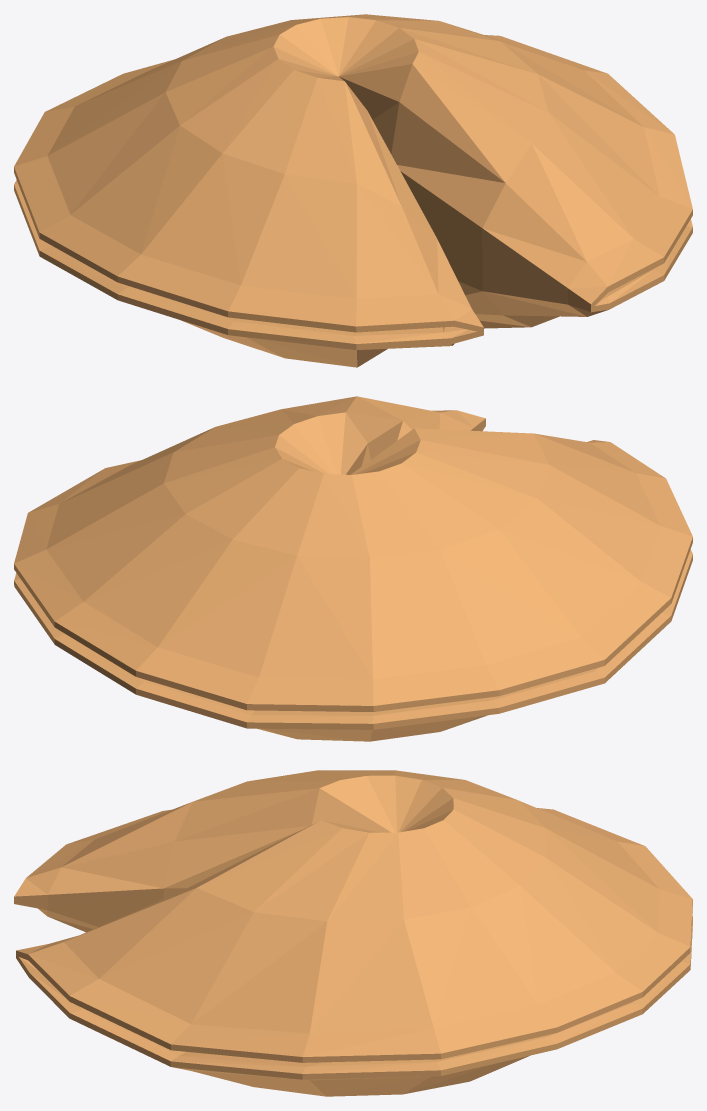
3 renders of one model, top to bottom at view 1: azimuth 30°, elevation 25°; view 2: azimuth 150°, elevation 25°; view 3: azimuth 270°, elevation 25°, orthographic. The views are drawn at different scales.
Visible parts, largest first — view 1: Fortune_Cookie; view 2: Fortune_Cookie; view 3: Fortune_Cookie.
Part boxes in pixels (x1,y1,x2,y2): Fortune_Cookie: (14,14,692,367); Fortune_Cookie: (14,396,692,741); Fortune_Cookie: (14,770,692,1096).
Size of the model in its own units: 59.27 by 26.18 by 63.43.
1 material, 1 textured.
